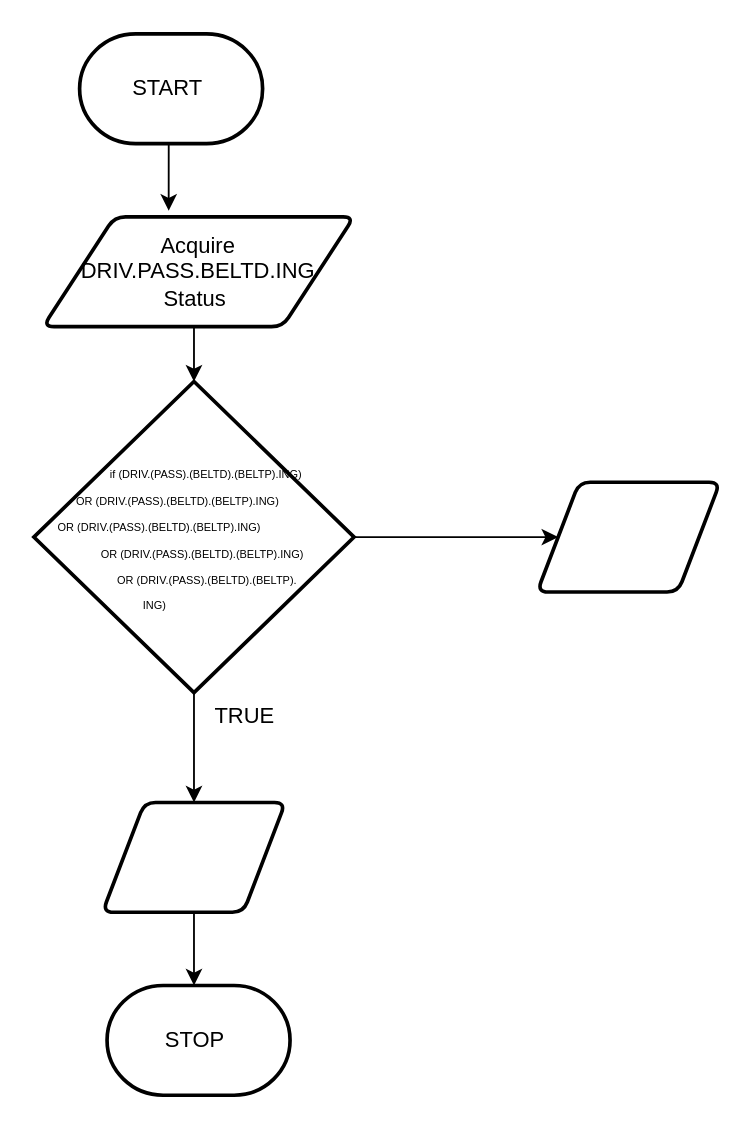
Image size: 752x1127. Some labels were removed from this diagram. The shapes that lost their labels are listed below. From the top down, each one's centre as x and y in pixels, then its label:
At (627,536): "ALARM OFF".
At (193,856): "ALARM ON".
